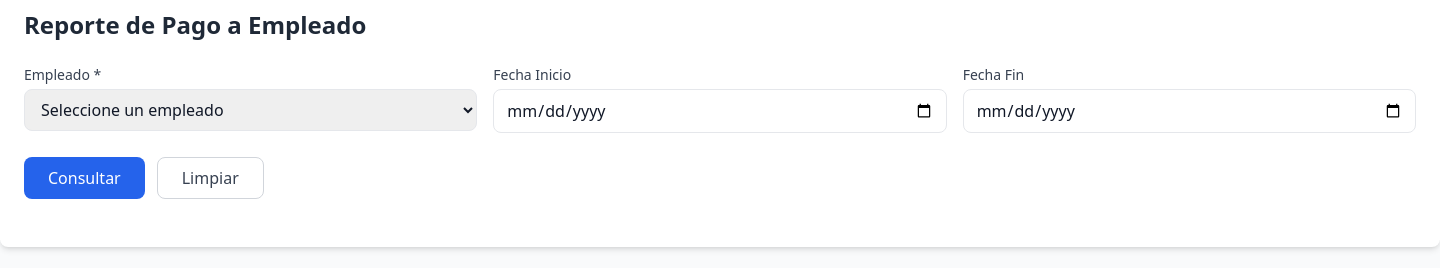
Test: PagoEmpleadoReport › limpia filtros y resultado al hacer clic en "Limpiar"
The image size is (1440, 268).
# Seleccionar empleado y establecer fechas
Select "Juan Pérez" in the dropdown at coordinates (251, 110), box [24,89,477,131]
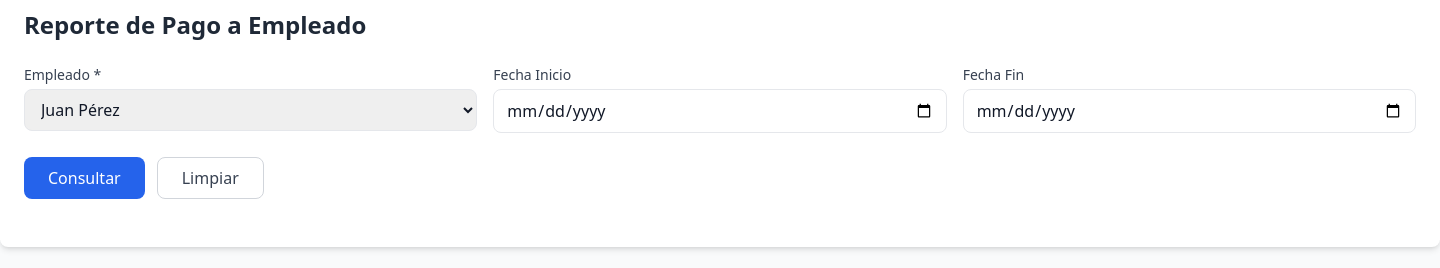
Type "2024-01-01" into the date field below "Fecha Inicio" at coordinates (720, 111), box [493,89,947,133]
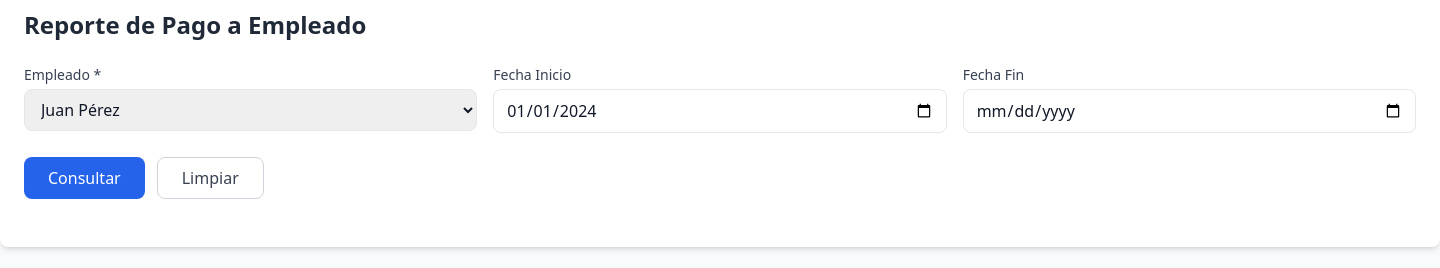
Type "2024-01-31" into the date field below "Fecha Fin" at coordinates (1189, 111), box [963,89,1416,133]
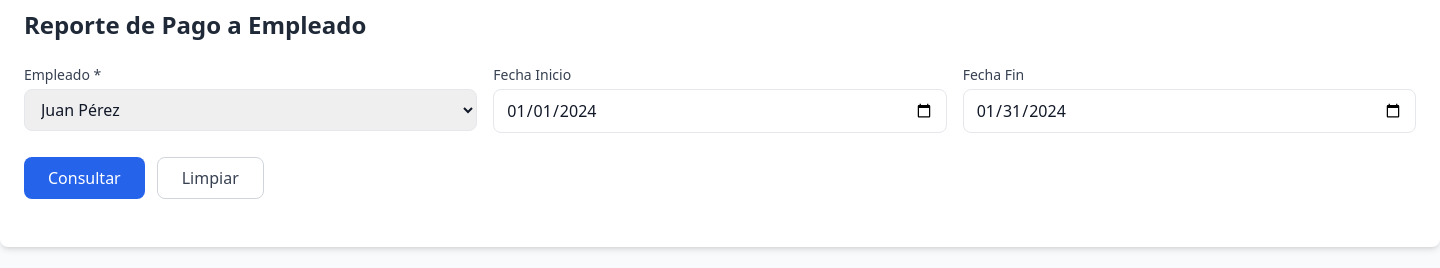
Click the button "Limpiar" at coordinates (210, 178), box [157,157,264,199]
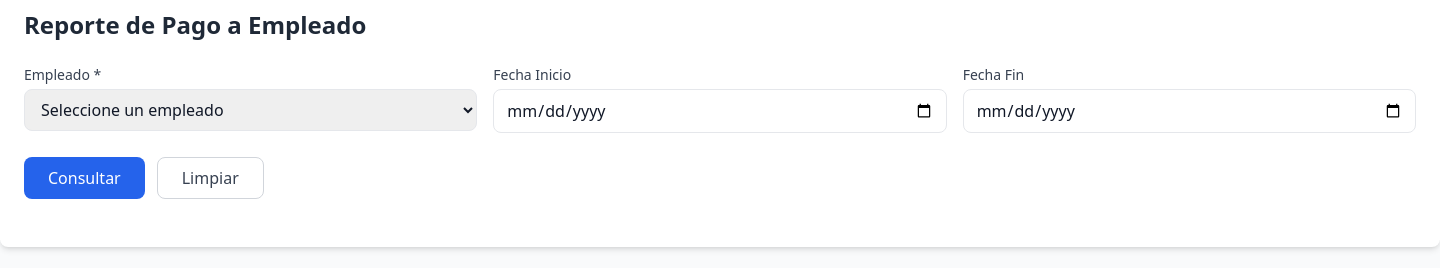
Now the date field below "Fecha Inicio" is empty, box [493,89,947,133]
Now the date field below "Fecha Fin" is empty, box [963,89,1416,133]
